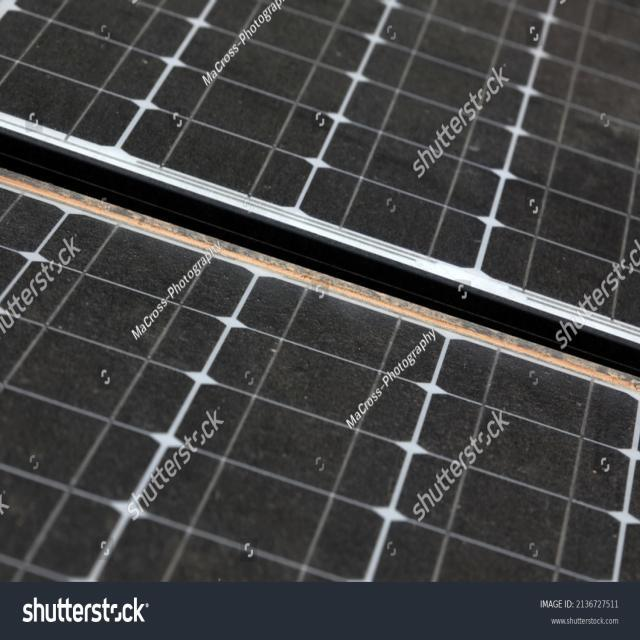faulty: (0, 173, 625, 582), (0, 0, 640, 315)
